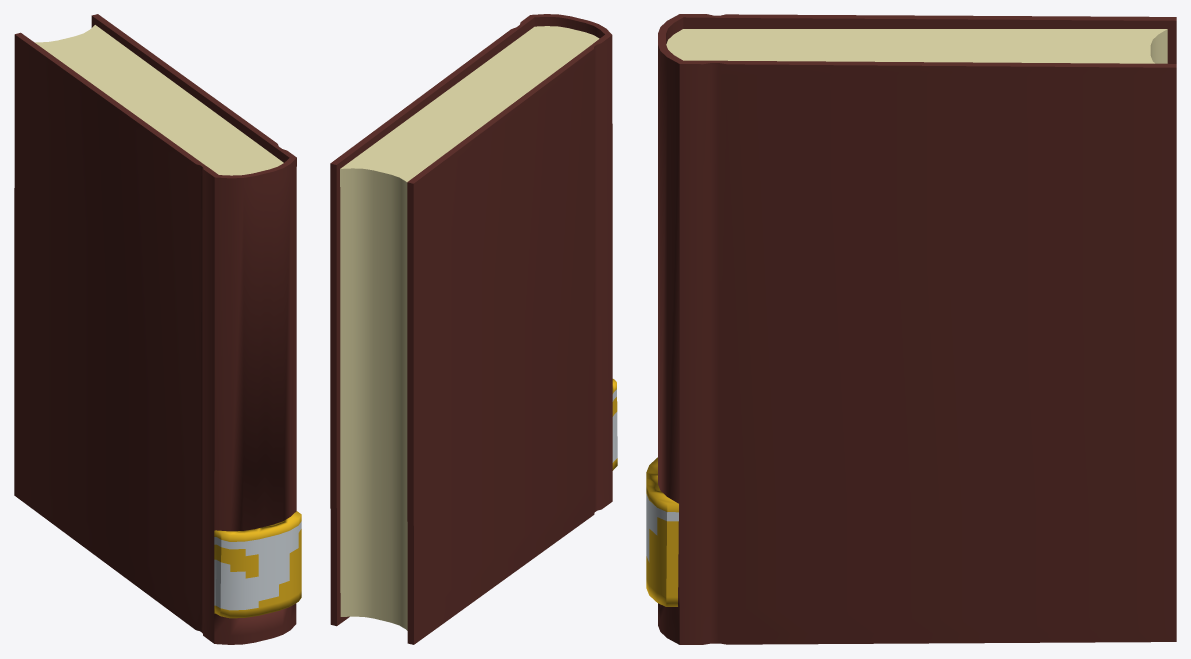
File: Book4.fbx
The picture shows the model from 3 angles, left to right: view 1: azimuth 30°, elevation 25°; view 2: azimuth 150°, elevation 25°; view 3: azimuth 270°, elevation 25°; orthographic projection. The views are drawn at different scales.
Visible parts, largest first — view 1: Book4; view 2: Book4; view 3: Book4.
Boxes of the visible parts, x1,y1,x2,y2 form: Book4: [14, 14, 301, 644]; Book4: [330, 14, 617, 644]; Book4: [646, 14, 1176, 644].
Bounding box in the file's own units: 49.7 × 265 × 219.
